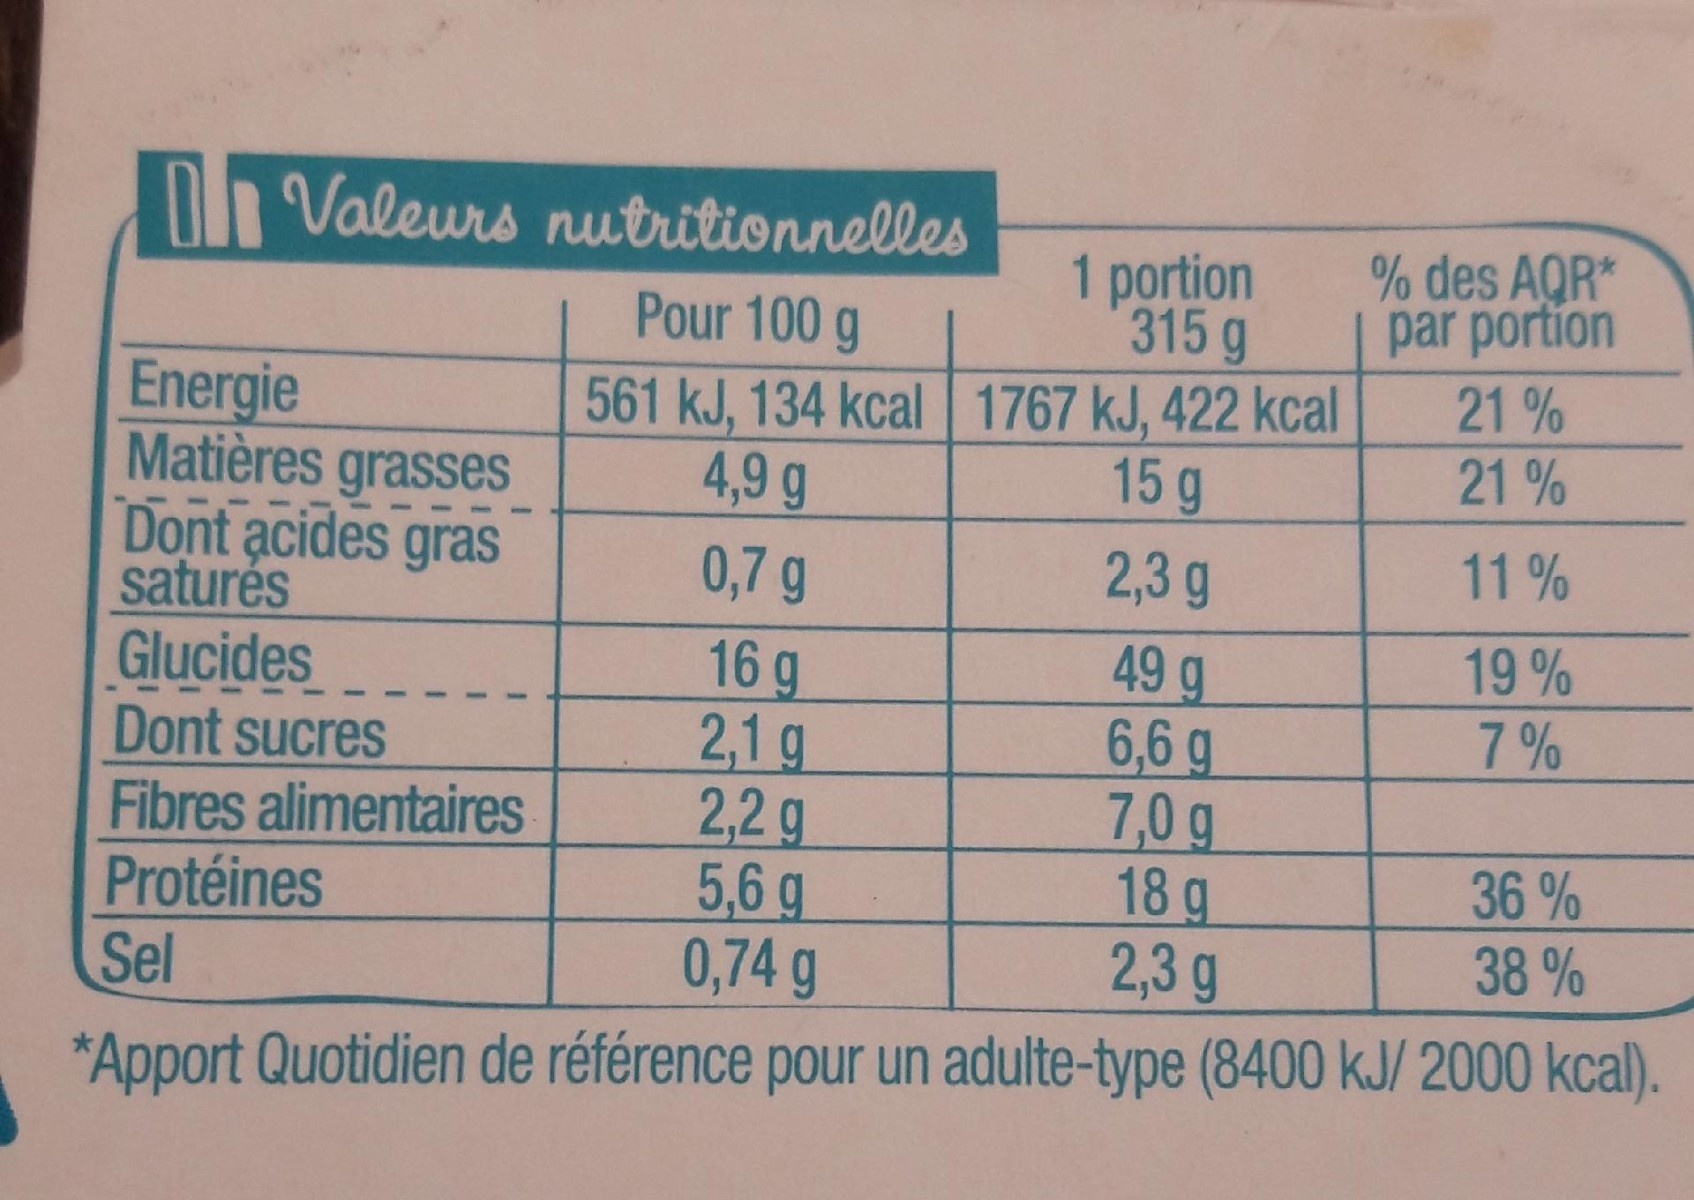column: (84, 271, 543, 1034), (961, 231, 1351, 1031), (584, 269, 939, 1003), (1371, 227, 1682, 1025)
table: (104, 199, 1694, 1018)
